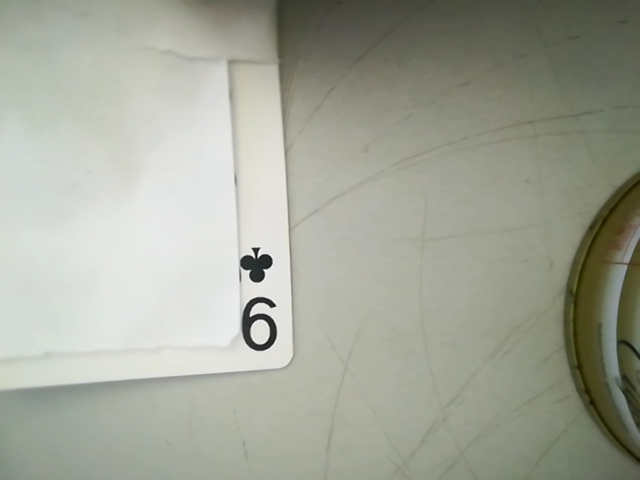mh 9: (223, 236, 290, 359)
